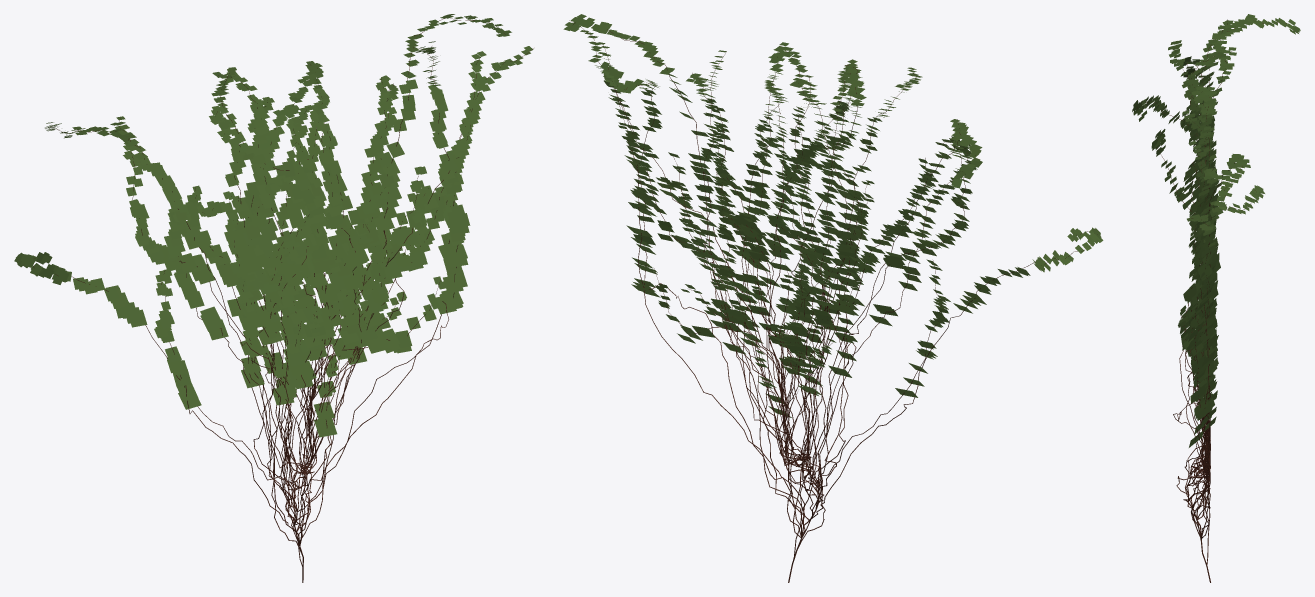
The model's file is ivy.fbx.
The picture shows the model from 3 angles, left to right: view 1: azimuth 30°, elevation 25°; view 2: azimuth 150°, elevation 25°; view 3: azimuth 270°, elevation 25°; orthographic projection. The views are drawn at different scales.
Parts seen in each view (by area): view 1: IvyLeaf, IVY_Curve; view 2: IvyLeaf, IVY_Curve; view 3: IvyLeaf, IVY_Curve.
Part boxes in pixels (<box>): IvyLeaf: <box>14,14,533,437</box>; IVY_Curve: <box>33,18,533,582</box>; IvyLeaf: <box>563,14,1103,417</box>; IVY_Curve: <box>569,20,1097,582</box>; IvyLeaf: <box>1132,14,1300,447</box>; IVY_Curve: <box>1137,19,1296,582</box>.
Bounding box in the file's own units: 241 × 235 × 70.85.
